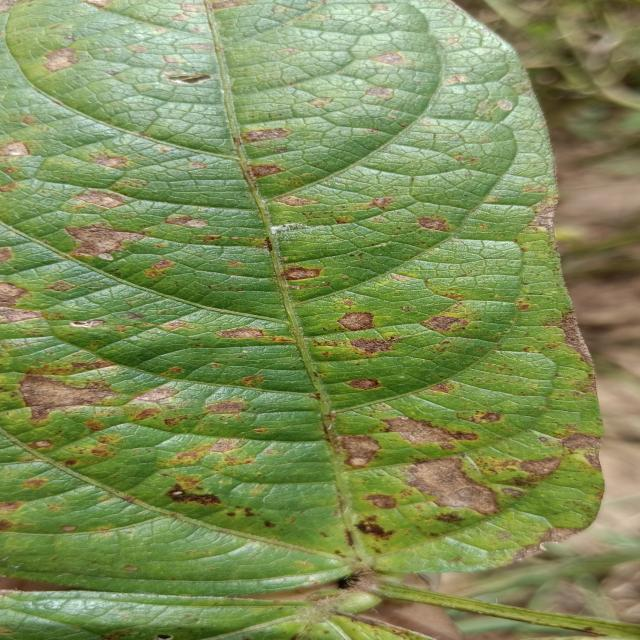Black gram_leaf spot: (0, 0, 624, 598)
